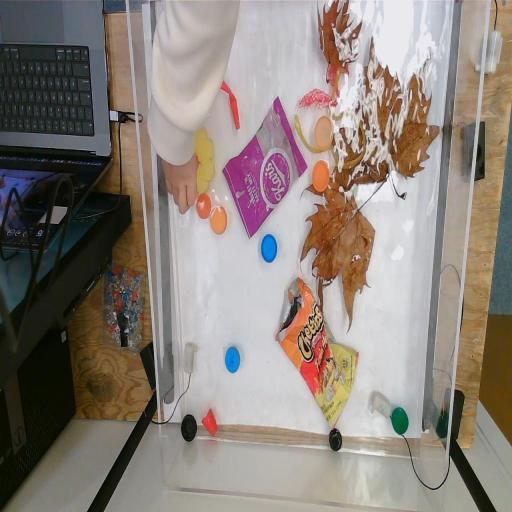Bottle Cap: (312, 158, 332, 194), (210, 202, 230, 238), (314, 116, 334, 152), (390, 404, 410, 438), (180, 412, 198, 444), (224, 345, 241, 375), (260, 234, 278, 262), (196, 192, 212, 220), (328, 426, 343, 452)
Cone Cap: (202, 407, 218, 436)
Leaf: (334, 36, 442, 199), (296, 182, 382, 332), (316, 0, 364, 84)
Netting: (296, 62, 348, 108)
Plastic Bag: (274, 276, 360, 428), (224, 98, 306, 240)
Plastic Strand: (294, 68, 366, 166), (214, 74, 240, 130)
Sponge: (192, 126, 216, 196)
